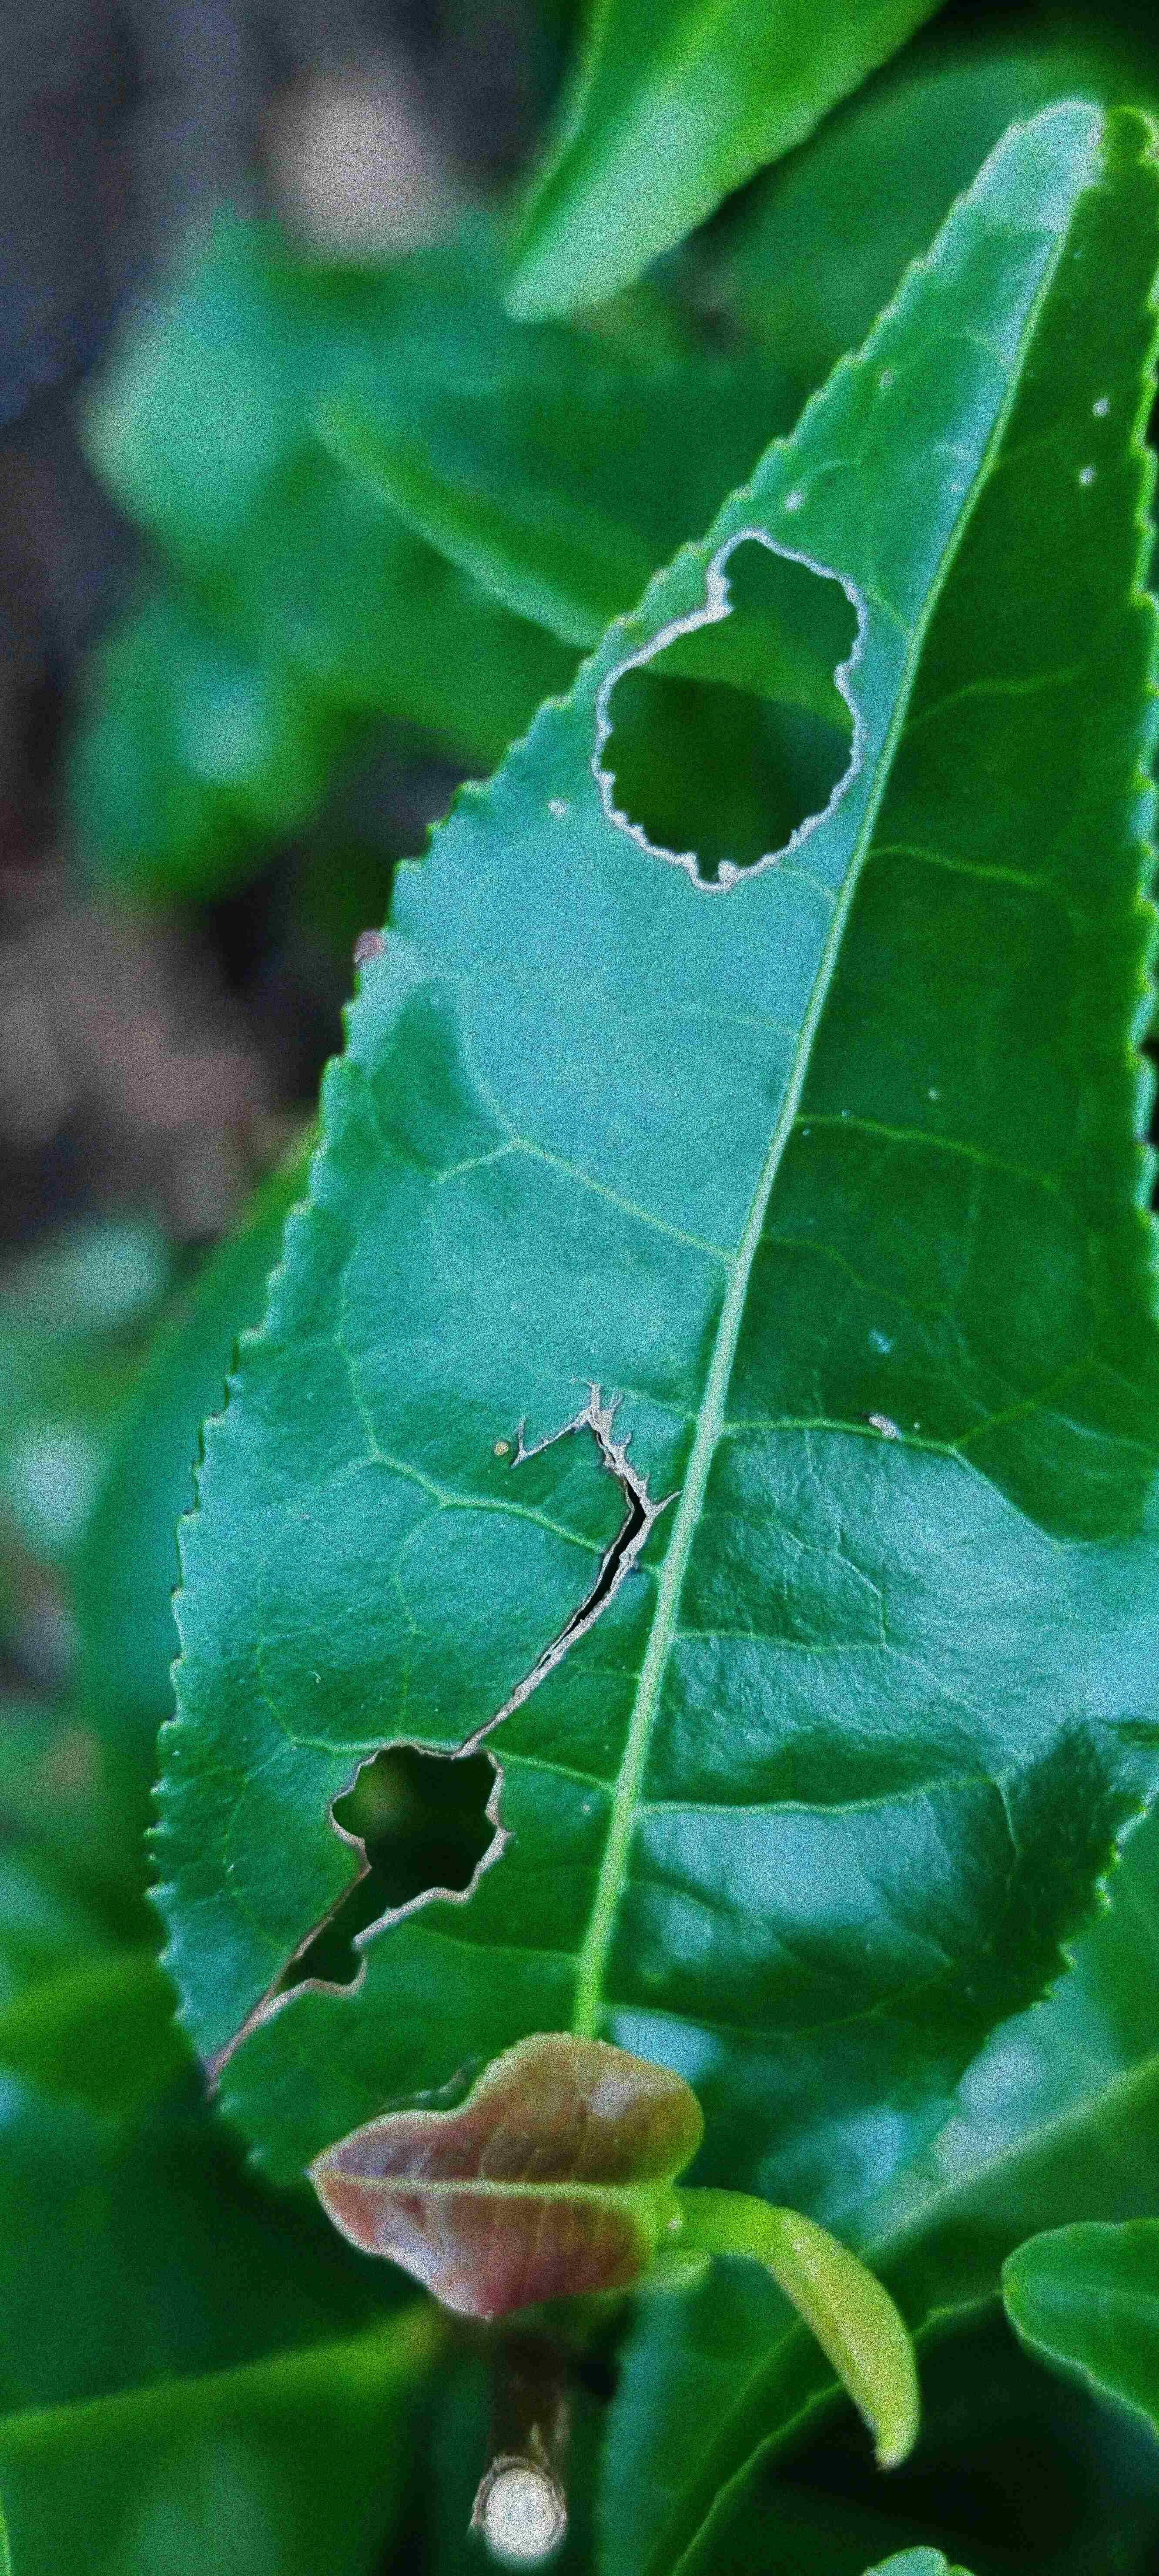chihuo_high: (136, 100, 1154, 2287)
tanju_low: (297, 2026, 712, 2325)
